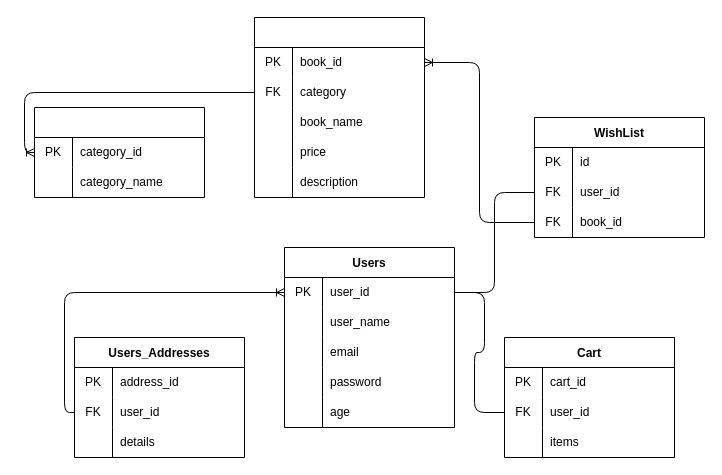
The diagram is 722 pixels wide and 475 high, and some of its shapes have lost their labels. The shapes that lost their labels are listed below. From the top down, each one's box as (x1, y1, x2, y2) in pixels, then its label:
(254, 16, 424, 198): Books
(34, 106, 204, 198): Categories
